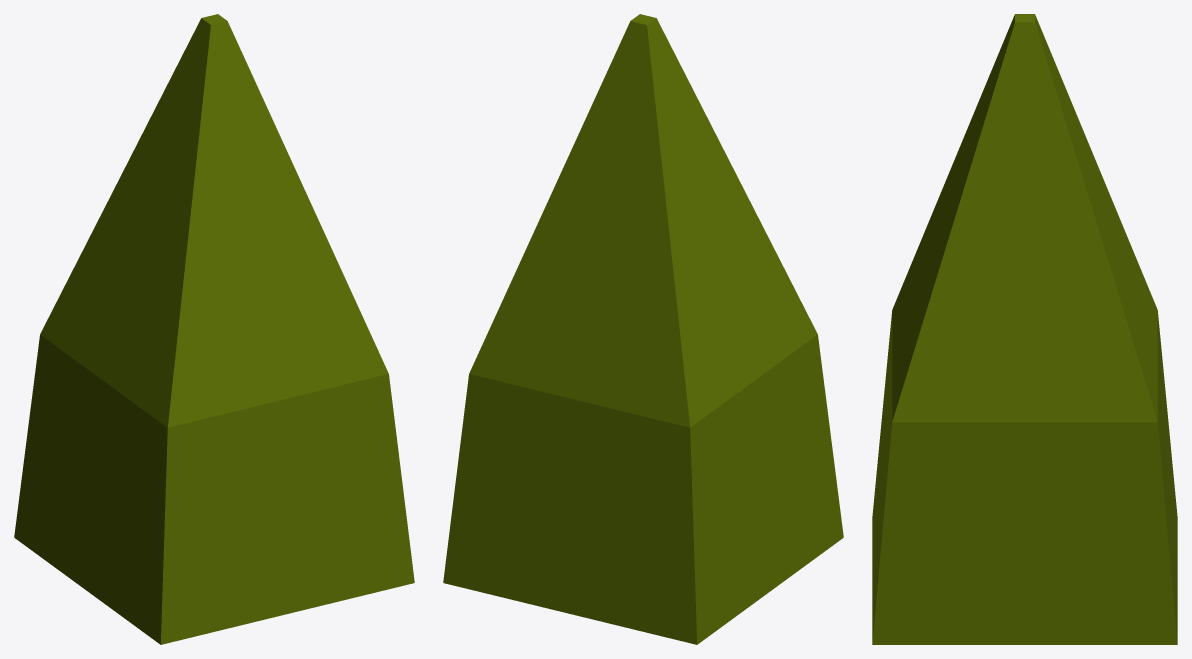
The model's file is token.glb.
The picture shows the model from 3 angles, left to right: view 1: azimuth 30°, elevation 25°; view 2: azimuth 150°, elevation 25°; view 3: azimuth 270°, elevation 25°; orthographic projection. The views are drawn at different scales.
Parts seen in each view (by area): view 1: Cube; view 2: Cube; view 3: Cube.
Part boxes in pixels (x1,y1,x2,y2): Cube: (14,14,414,644); Cube: (443,14,843,644); Cube: (872,14,1177,644).
Size of the model in its own units: 1 by 2.03 by 1.
